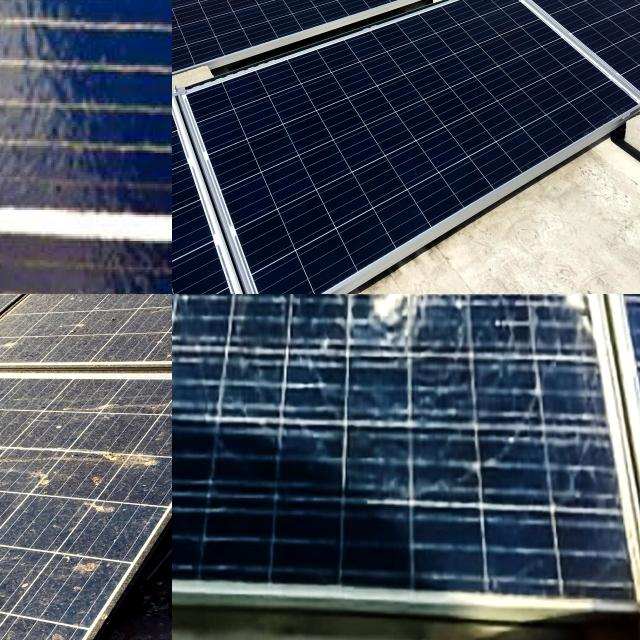bird: (72, 435, 172, 477), (35, 548, 138, 587), (0, 456, 65, 495), (0, 620, 43, 640)
crack: (172, 0, 640, 294), (172, 0, 499, 88), (373, 0, 640, 62), (522, 0, 640, 135), (442, 0, 623, 38), (314, 0, 493, 33), (253, 0, 417, 22), (172, 0, 291, 26), (568, 0, 640, 40)
hotspot: (345, 294, 484, 365), (547, 294, 605, 364)
